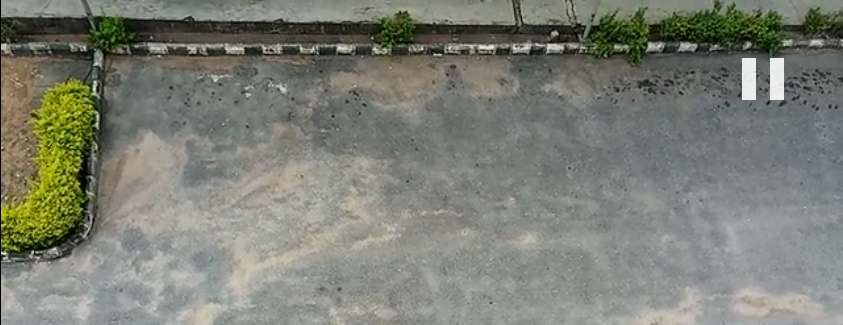one: (73, 22, 243, 245)
three: (453, 21, 595, 243)
two: (293, 19, 422, 247)
